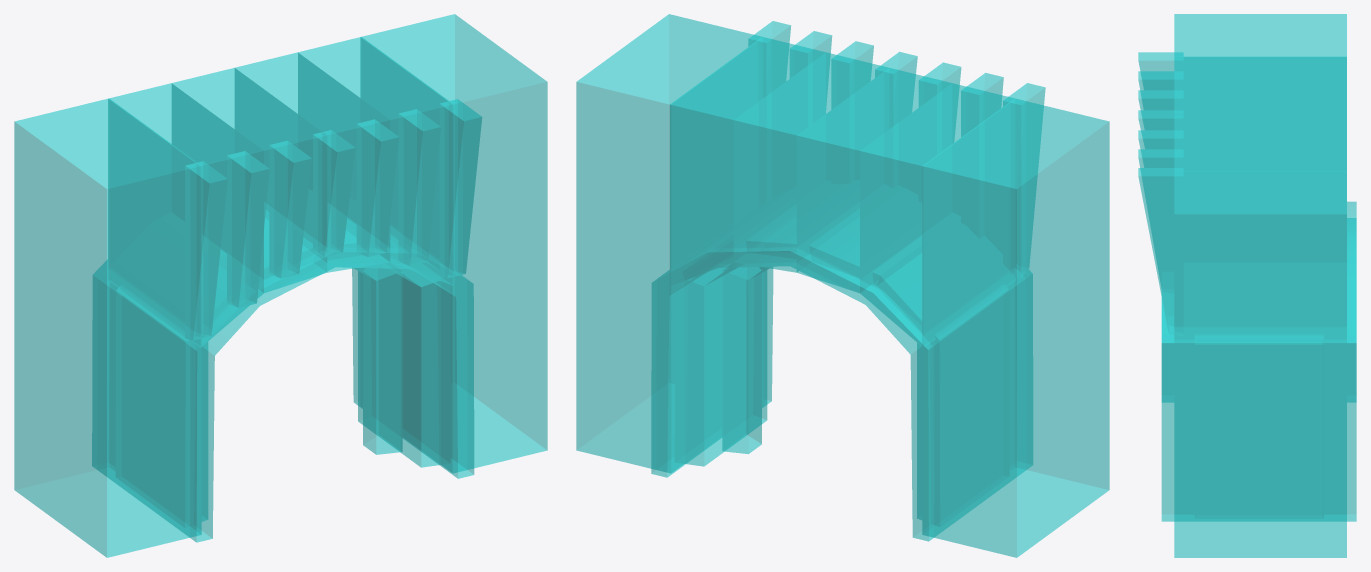
The model's file is SM_Bld_Wall_L_Gate_02_Collision.fbx.
3 renders of one model, left to right at view 1: azimuth 30°, elevation 25°; view 2: azimuth 150°, elevation 25°; view 3: azimuth 270°, elevation 25°, orthographic. The views are drawn at different scales.
Parts seen in each view (by area): view 1: SM_Bld_Wall_L_Gate_02_Collision; view 2: SM_Bld_Wall_L_Gate_02_Collision; view 3: SM_Bld_Wall_L_Gate_02_Collision.
Boxes of the visible parts, box(x1,y1,x2,y2) form: SM_Bld_Wall_L_Gate_02_Collision: box(14, 14, 547, 557); SM_Bld_Wall_L_Gate_02_Collision: box(576, 14, 1109, 557); SM_Bld_Wall_L_Gate_02_Collision: box(1138, 14, 1356, 557).
Size of the model in its own units: 1500 by 1203 by 691.
